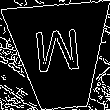M_S: (34, 29, 85, 84)
